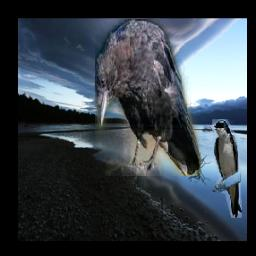Crow: (95, 19, 201, 176)
Swallow: (213, 120, 243, 219)
